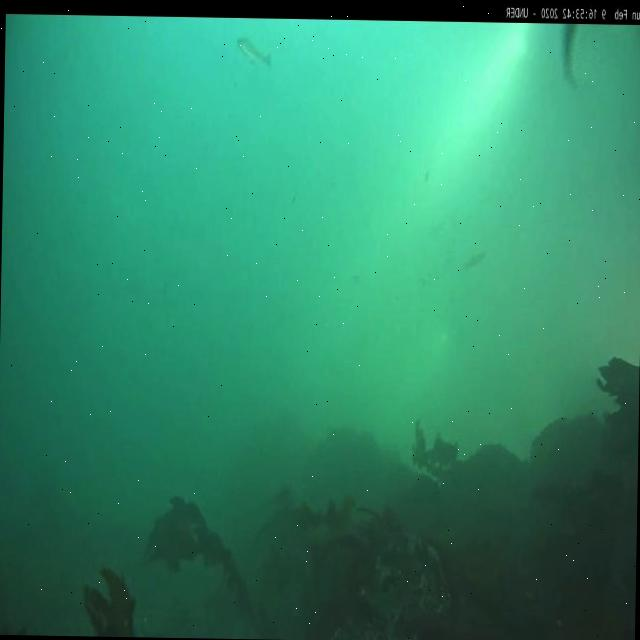fish: (559, 22, 581, 94), (236, 39, 270, 70)
